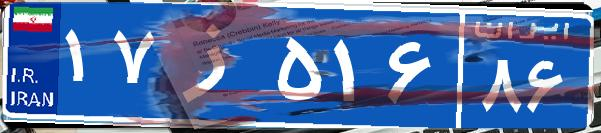1: (330, 28, 385, 110), (57, 26, 110, 107)
5: (273, 28, 330, 110)
6: (385, 28, 445, 110), (525, 38, 570, 115)
7: (110, 28, 158, 105)
8: (475, 38, 525, 113)
ز: (158, 15, 273, 115)
